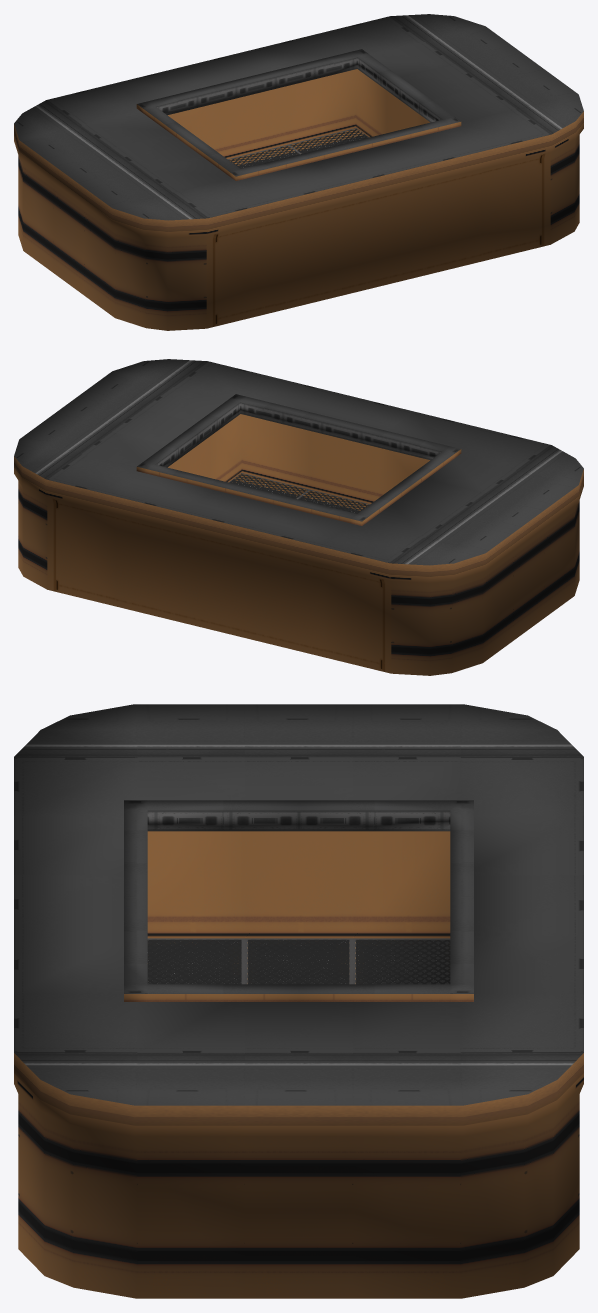
The model's file is Arena.fbx.
3 views of the same model, one above another, from view 1: azimuth 30°, elevation 25°; view 2: azimuth 150°, elevation 25°; view 3: azimuth 270°, elevation 25° (orthographic). The views are drawn at different scales.
Visible parts, largest first — view 1: Arena; view 2: Arena; view 3: Arena.
Part boxes in pixels (x1,y1,x2,y2): Arena: (14, 14, 583, 330); Arena: (14, 359, 583, 675); Arena: (14, 704, 583, 1298).
Bounding box in the file's own units: 2030 × 481 × 1218.
